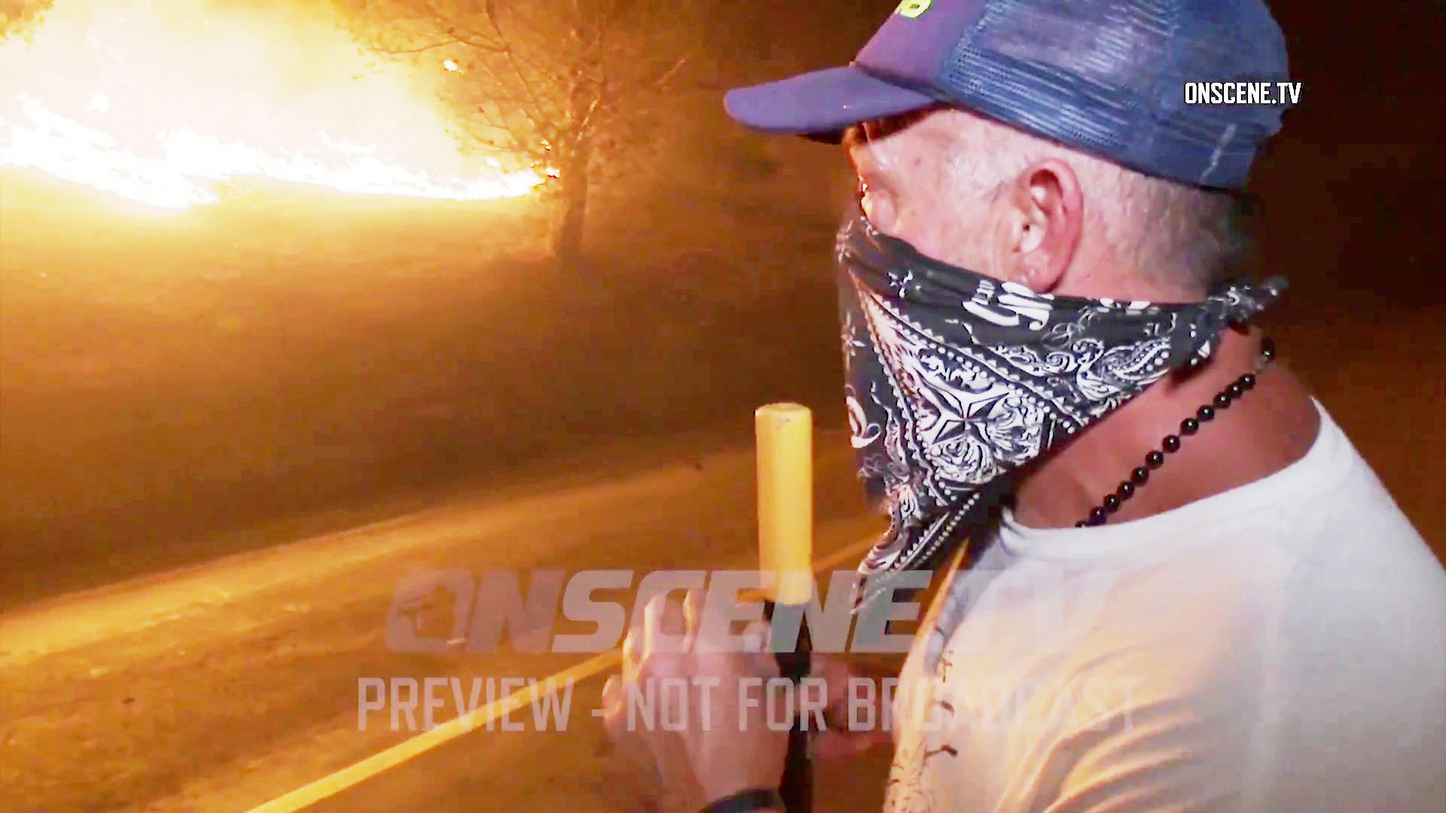fire: (0, 110, 452, 206)
